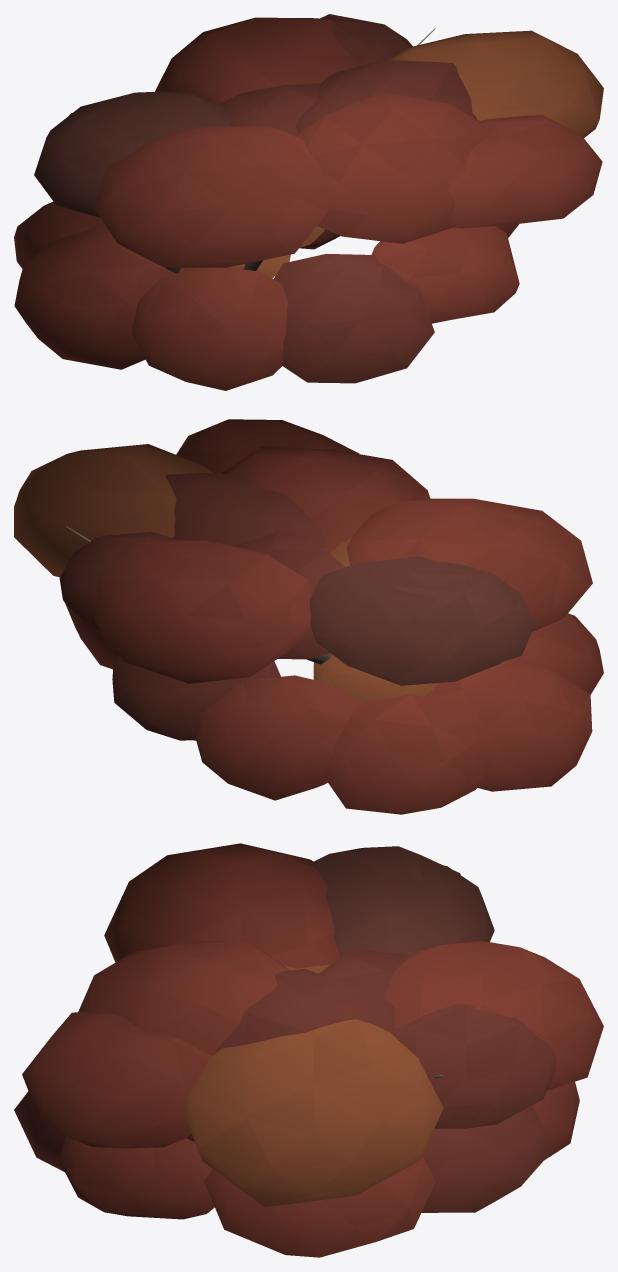
Rendered from nire_d.glb.
3 views of the same model, one above another, from view 1: azimuth 30°, elevation 25°; view 2: azimuth 150°, elevation 25°; view 3: azimuth 270°, elevation 25° (orthographic). The views are drawn at different scales.
Visible parts, largest first — view 1: NireD; view 2: NireD; view 3: NireD.
Boxes of the visible parts, x1,y1,x2,y2 form: NireD: [14, 14, 603, 390]; NireD: [14, 419, 603, 814]; NireD: [14, 843, 603, 1257].
Bounding box in the file's own units: 4.83 × 1.94 × 3.75.
